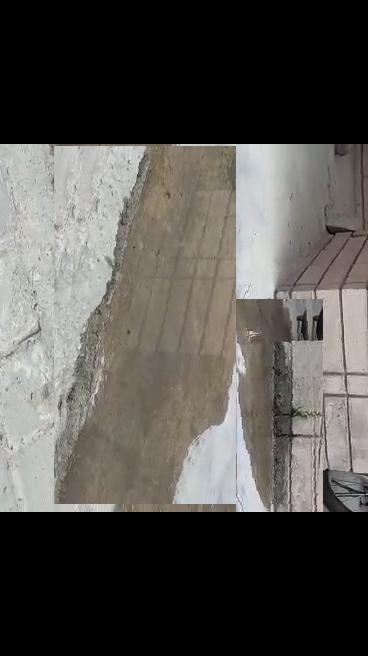water accumulation: (54, 144, 286, 512)
